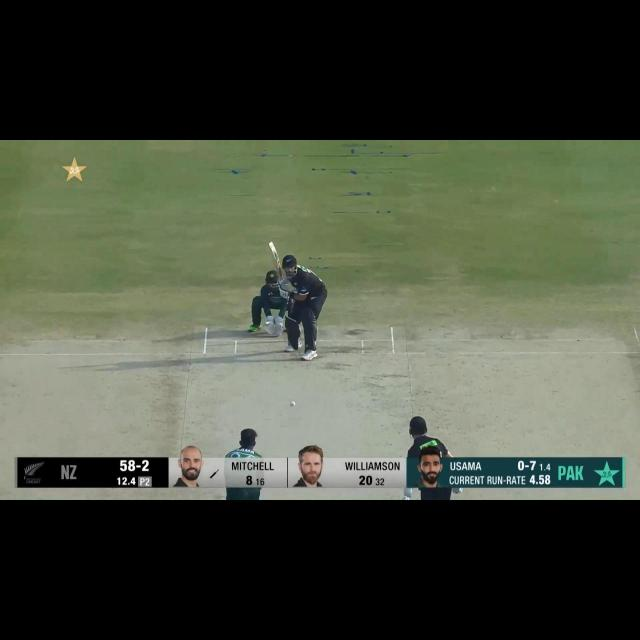bat: (267, 240, 284, 280)
toe: (267, 241, 274, 248)
